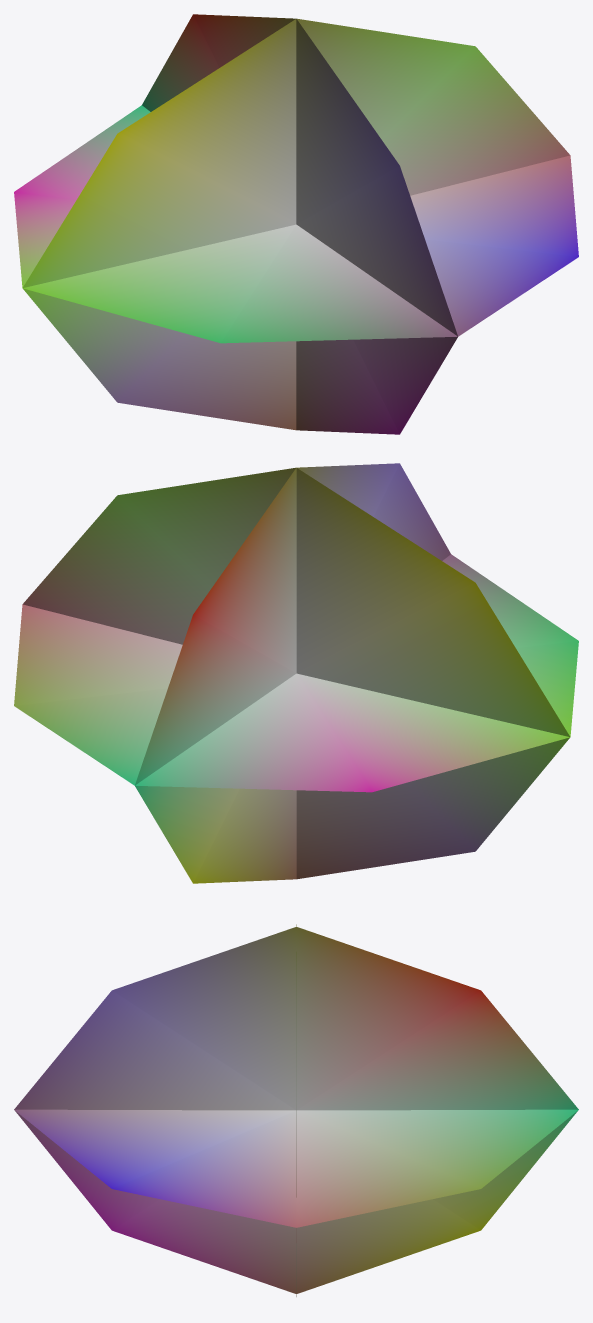
The model's file is space-asteroids-crystal-asteroid_v9.glb.
3 renders of one model, top to bottom at view 1: azimuth 30°, elevation 25°; view 2: azimuth 150°, elevation 25°; view 3: azimuth 270°, elevation 25°, orthographic. The views are drawn at different scales.
Visible parts, largest first — view 1: Crystal Asteroid_v9; view 2: Crystal Asteroid_v9; view 3: Crystal Asteroid_v9.
Part boxes in pixels (x1,y1,x2,y2): Crystal Asteroid_v9: [14, 14, 578, 434]; Crystal Asteroid_v9: [14, 463, 578, 883]; Crystal Asteroid_v9: [14, 924, 578, 1296].
Size of the model in its own units: 100 by 71.78 by 100.
